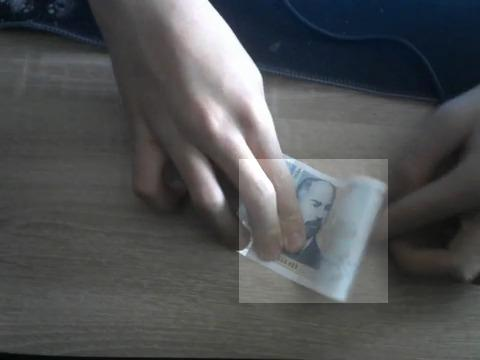20leva: (239, 159, 388, 303)
